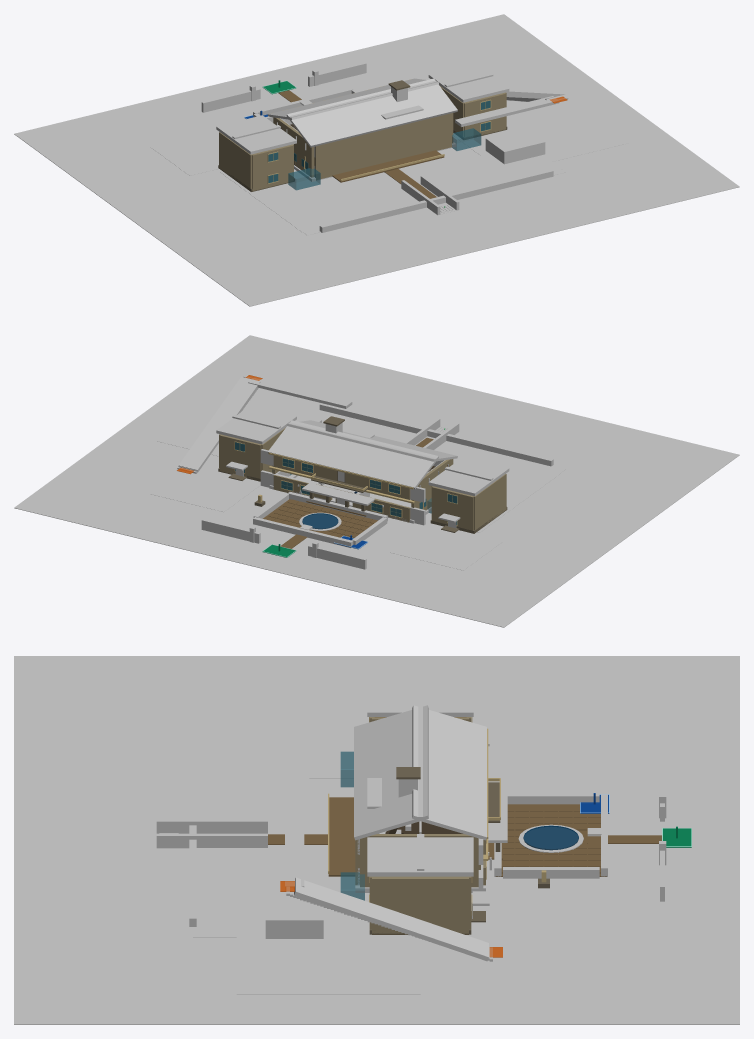
File: fase4.obj
3 renders of one model, top to bottom at view 1: azimuth 30°, elevation 25°; view 2: azimuth 150°, elevation 25°; view 3: azimuth 270°, elevation 25°, orthographic. The views are drawn at different scales.
Parts seen in each view (by area): view 1: Estateground1, Reargarden1, Roofsouthslope1, Backfacade1, Forestescapezone1, Sidegardenwest1, Frontgardenleft1, Reargardenhedge1, Westservicewingroof1, Eastgallerywingroof1, Guesthouseblockout1, Westservicewingbackwall1 (+13 smaller); view 2: Estateground1, Roofnorthslope1, Reargarden1, Frontgardenleft1, Frontgardenright1, Rooftopramp1, Reargardenhedge1, Westservicewingroof1, Eastgallerywingroof1, Forestescapezone1, Eastgallerywingfrontwall1, Westservicewingfrontwall1 (+12 smaller); view 3: Estateground1, Forestescapezone1, Reargarden1, Roofnorthslope1, Roofsouthslope1, Frontgardenright1, Frontgardenleft1, Sidegardenwest1, Eastgallerywingeastwall1, Eastgallerywingroof1, Rooftopramp1, Westservicewingroof1 (+13 smaller).
Part boxes in pixels (x1,y1,x2,y2): Estateground1: (14,14,739,306); Reargarden1: (270,154,565,235); Roofsouthslope1: (286,78,457,147); Backfacade1: (314,113,451,179); Forestescapezone1: (486,99,627,167); Sidegardenwest1: (220,171,346,232); Frontgardenleft1: (150,130,219,175); Reargardenhedge1: (319,169,553,232); Westservicewingroof1: (216,115,296,154); Eastgallerywingroof1: (428,63,509,102); Guesthouseblockout1: (485,128,545,164); Westservicewingbackwall1: (252,144,293,190); Estateground1: (14,335,739,627); Roofnorthslope1: (268,420,438,489); Reargarden1: (297,406,565,495); Frontgardenleft1: (390,524,502,570); Frontgardenright1: (150,468,260,511); Rooftopramp1: (178,377,260,471); Reargardenhedge1: (319,403,553,466); Westservicewingroof1: (428,457,509,496); Eastgallerywingroof1: (216,405,296,444); Forestescapezone1: (157,397,249,456); Eastgallerywingfrontwall1: (219,434,261,478); Westservicewingfrontwall1: (432,486,473,530); Estateground1: (14,656,739,1024); Forestescapezone1: (236,920,420,994); Reargarden1: (193,742,309,937); Roofnorthslope1: (412,705,486,840); Roofsouthslope1: (354,705,428,840); Frontgardenright1: (471,902,592,957); Frontgardenleft1: (472,722,592,777); Sidegardenwest1: (206,742,353,778); Eastgallerywingeastwall1: (372,876,468,933); Eastgallerywingroof1: (367,837,473,876); Rooftopramp1: (294,877,488,961); Westservicewingroof1: (367,678,473,716).
Bounding box in the file's own units: 360 × 56.7 × 300.
